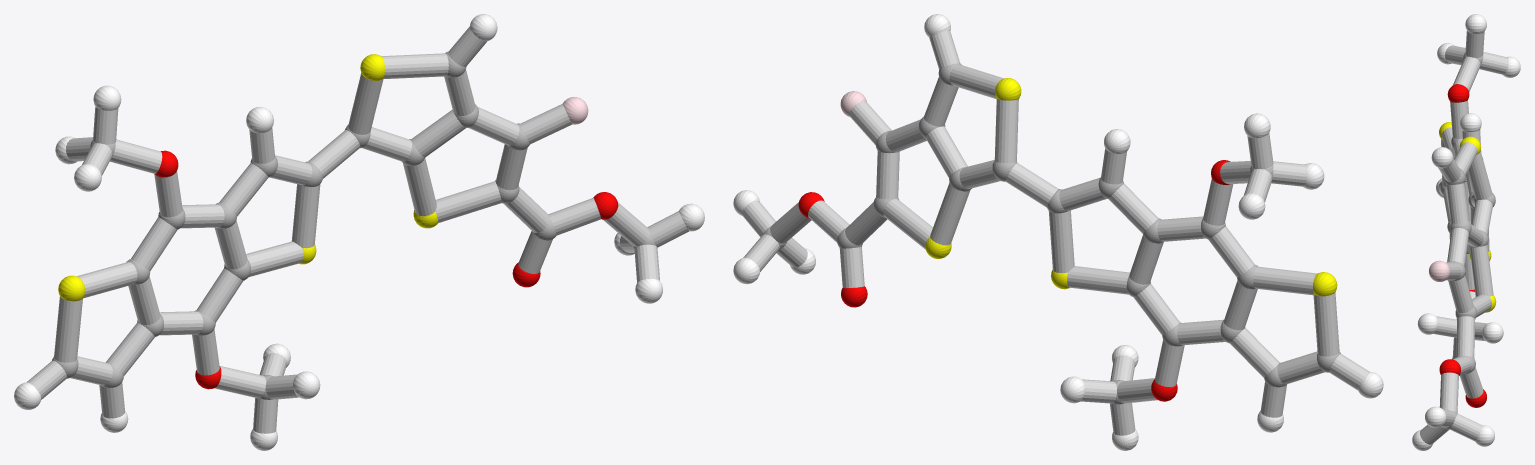
File: Dimethoxy_Benzodithiophene_Phi_25_Theta_0_Methylcarbonyl_3_Fluoro_Thienothiophene.glb
The picture shows the model from 3 angles, left to right: view 1: azimuth 30°, elevation 25°; view 2: azimuth 150°, elevation 25°; view 3: azimuth 270°, elevation 25°; orthographic projection. The views are drawn at different scales.
Parts seen in each view (by area): view 1: grp15205, grp8689, grp1, grp13395, grp7241; view 2: grp15205, grp8689, grp1, grp7241, grp13395; view 3: grp15205, grp8689, grp1, grp13395, grp7241, grp14843.
Part boxes in pixels (x1,y1,x2,y2): grp15205: (27,26,689,433); grp8689: (14,14,704,450); grp1: (52,51,655,399); grp13395: (154,150,618,389); grp7241: (58,54,438,301); grp15205: (742,30,1369,435); grp8689: (733,14,1383,450); grp1: (762,63,1340,404); grp7241: (925,78,1337,296); grp13395: (798,160,1230,401); grp15205: (1419,31,1508,444); grp8689: (1412,14,1520,450); grp1: (1440,53,1495,429); grp13395: (1439,84,1486,407); grp7241: (1439,122,1496,312); grp14843: (1429,260,1450,281).
Bounding box in the file's own units: 16.88 × 9.31 × 3.02.
